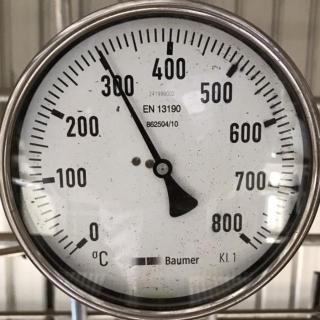gauge: (0, 0, 320, 320), (67, 224, 99, 256), (226, 220, 256, 250), (151, 157, 173, 179), (94, 45, 107, 59)
